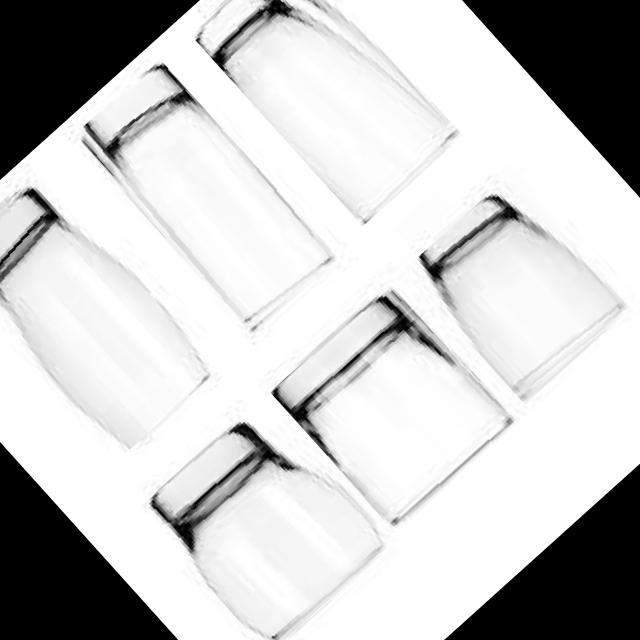Glass: (68, 58, 339, 340), (0, 164, 221, 456), (135, 394, 394, 640), (268, 280, 518, 532), (186, 0, 460, 225), (401, 173, 631, 405)
